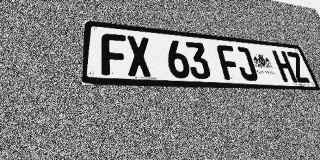3: (185, 41, 212, 79)
6: (165, 39, 191, 79)
F: (102, 33, 128, 76), (216, 44, 242, 80)
H: (272, 50, 298, 83)
J: (233, 46, 259, 81)
X: (126, 35, 152, 77)
Z: (285, 51, 311, 83)
